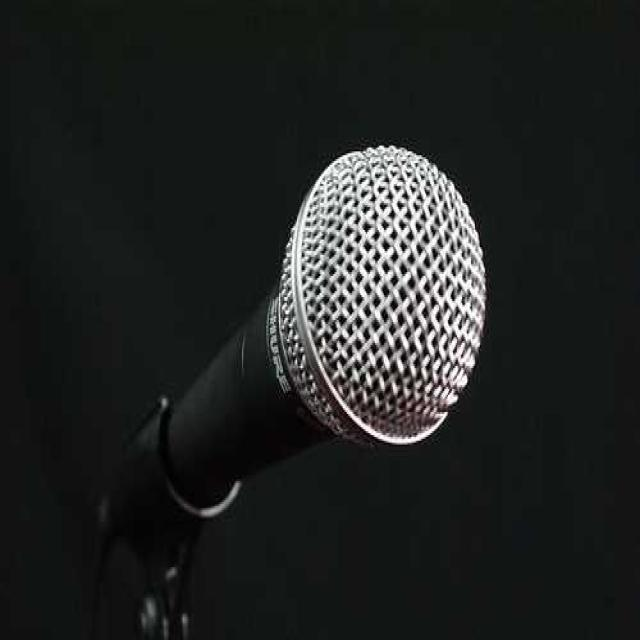microphone: (124, 145, 486, 530)
